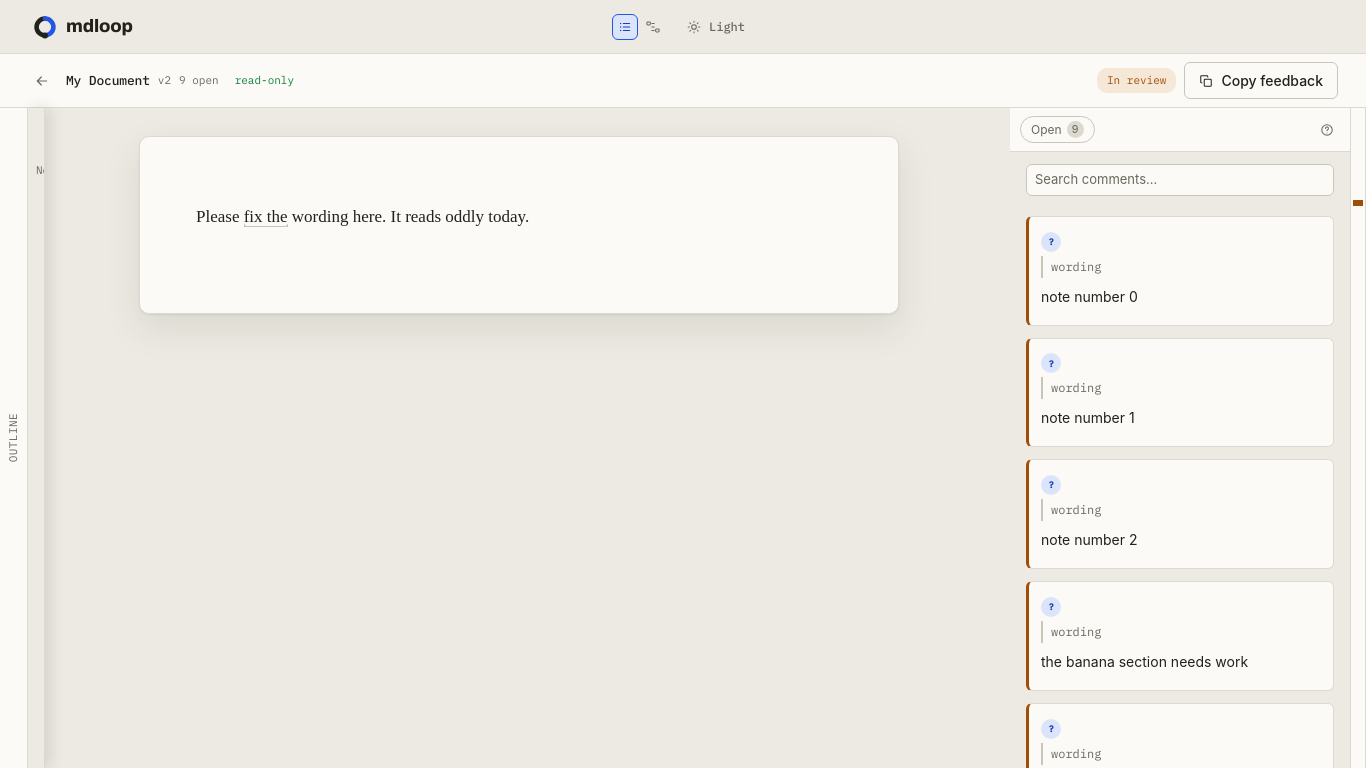
Viewer — in-rail comment search (ADR 0003 §C) › surfaces a count of matches that live outside the loaded threads
Expected: the text "the banana section needs work" is shown, [1041, 653, 1248, 670]
Type "banana" into the search field labelled "Search comments". click: (1180, 180)
box: [1026, 164, 1334, 196]
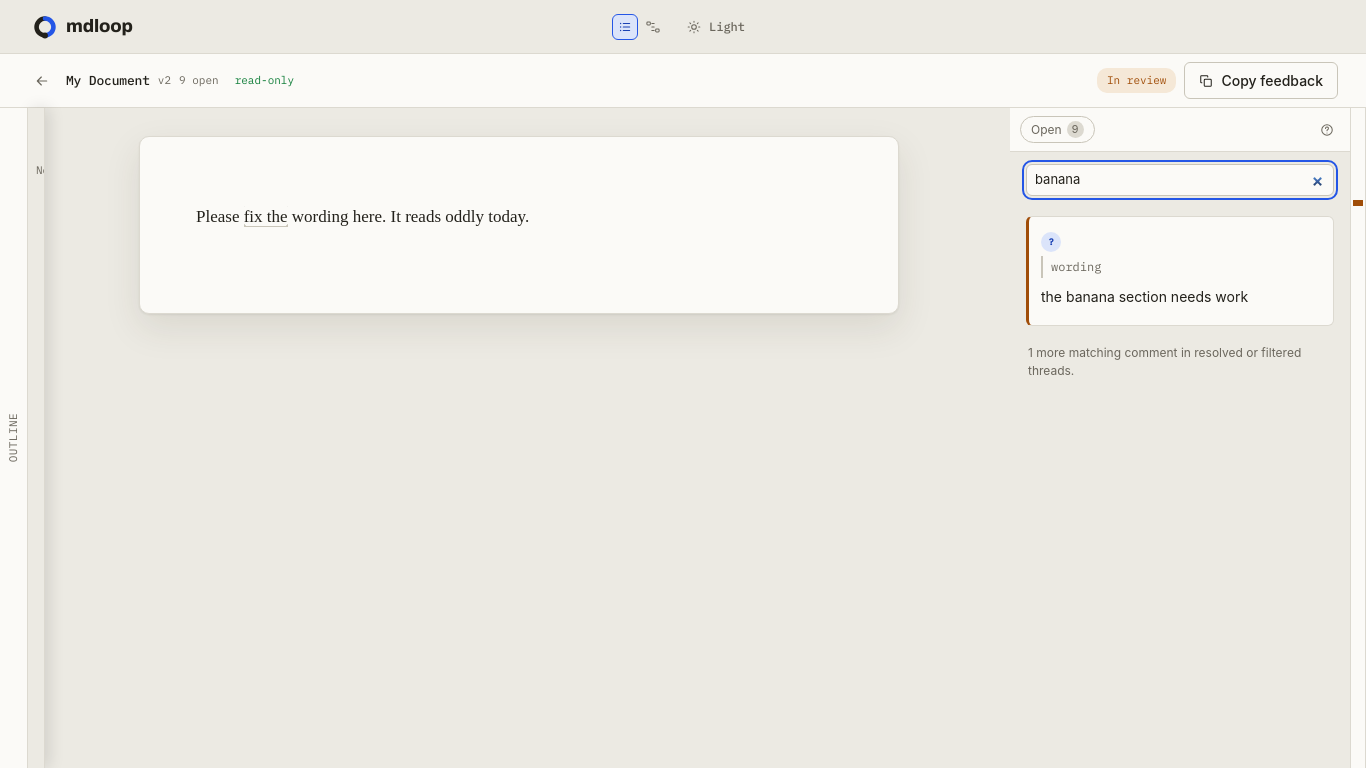
Expected: the text "1 more matching comment in resolved or filtered threads." is shown, [1028, 344, 1332, 380]
